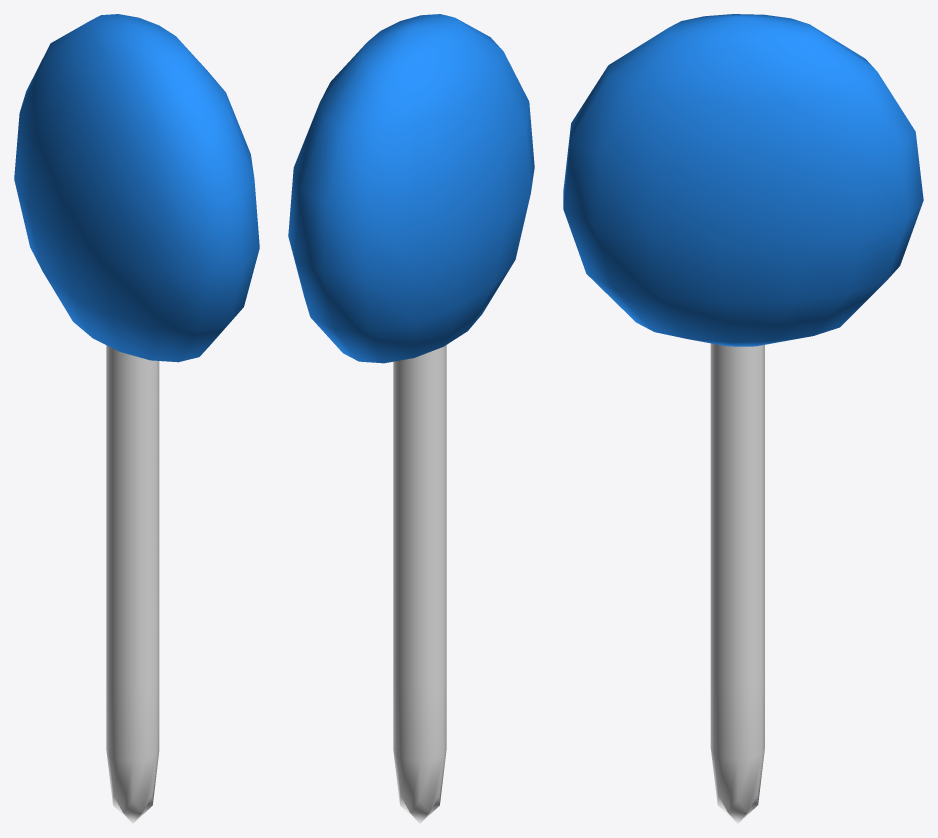
The model's file is Ovaler_Lolly.fbx.
The picture shows the model from 3 angles, left to right: view 1: azimuth 30°, elevation 25°; view 2: azimuth 150°, elevation 25°; view 3: azimuth 270°, elevation 25°; orthographic projection. The views are drawn at different scales.
Visible parts, largest first — view 1: Sphere002, Cylinder002; view 2: Sphere002, Cylinder002; view 3: Sphere002, Cylinder002.
Part boxes in pixels (x1,y1,x2,y2): Sphere002: [14, 14, 259, 362]; Cylinder002: [106, 345, 159, 823]; Sphere002: [288, 14, 534, 363]; Cylinder002: [393, 345, 446, 823]; Sphere002: [563, 14, 923, 346]; Cylinder002: [710, 343, 764, 823].
Bounding box in the file's own units: 74.43 × 332 × 134.
